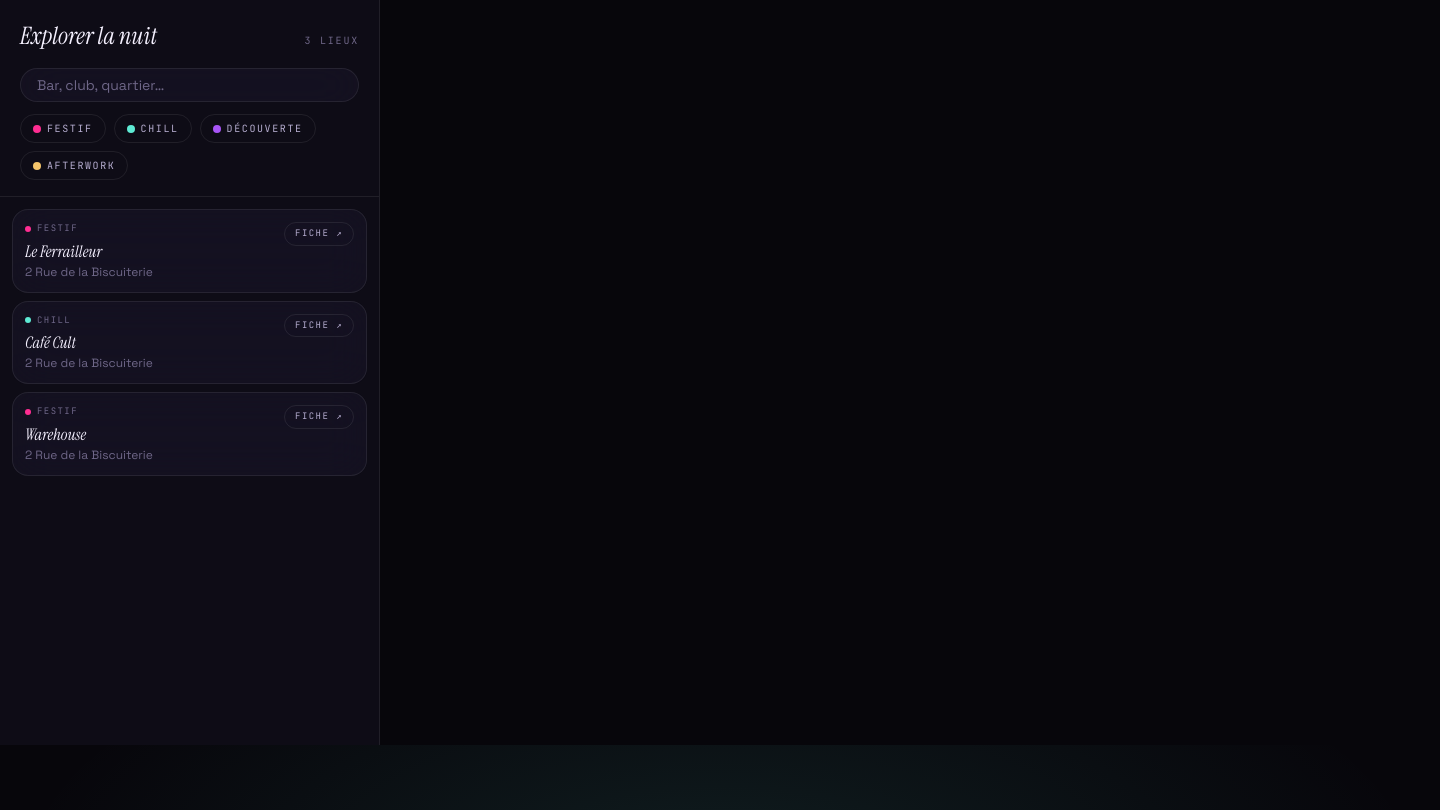
ExplorerPage › shows an empty state when no venue matches
The image size is (1440, 810).
Type "zzzznomatch" into the search field with placeholder "Bar, club, quartier…" at coordinates (194, 85), box [37,75,352,95]
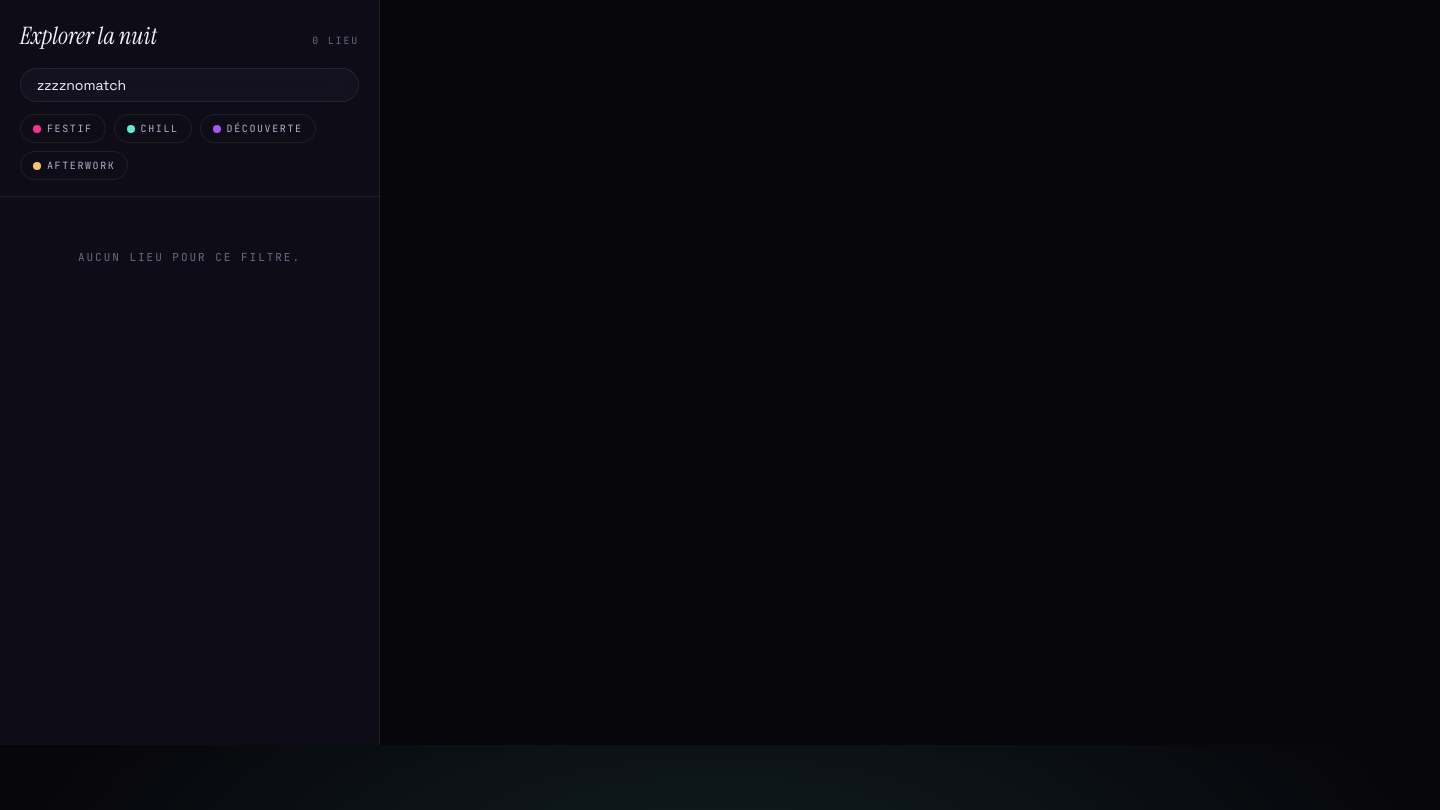
expect the text "Aucun lieu pour ce filtre." is shown: met, box [78,250,301,264]
expect no list items with test id "explorer-venue" are shown: met
